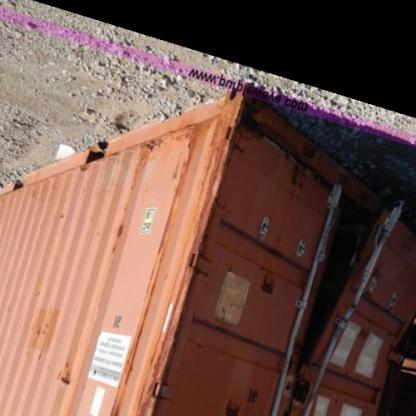Damage: (280, 148, 410, 356), (181, 109, 266, 233), (50, 352, 82, 394), (255, 266, 279, 316)
